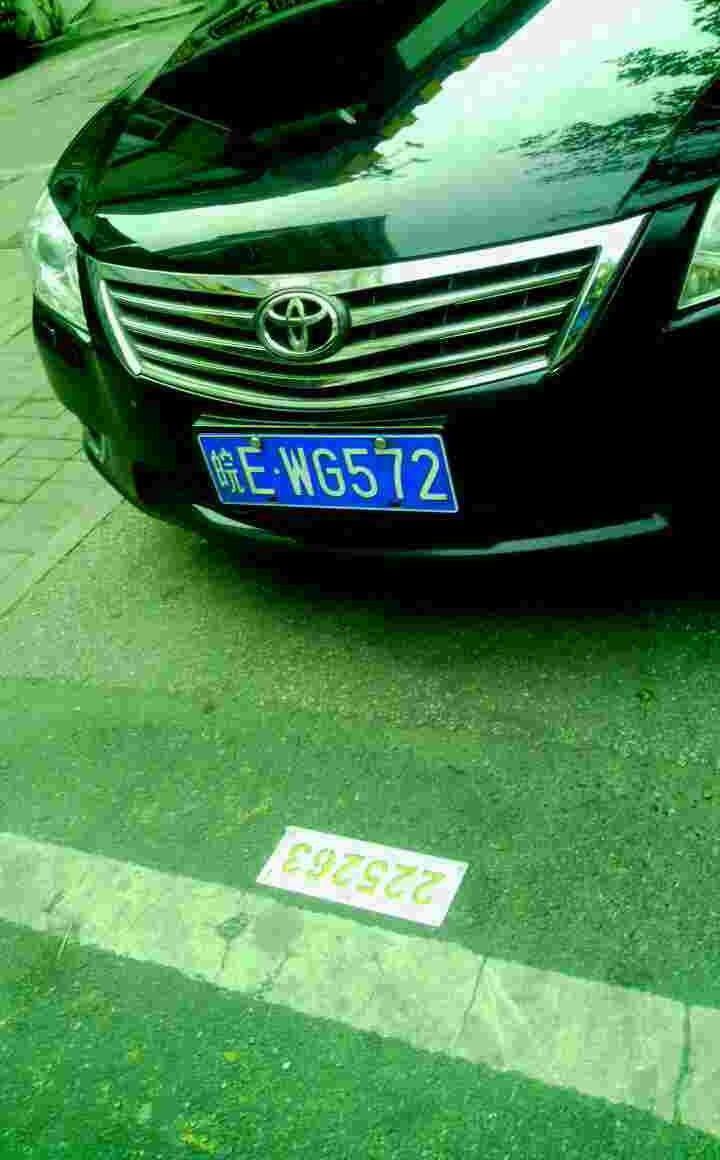license_plate: (187, 426, 455, 517)
